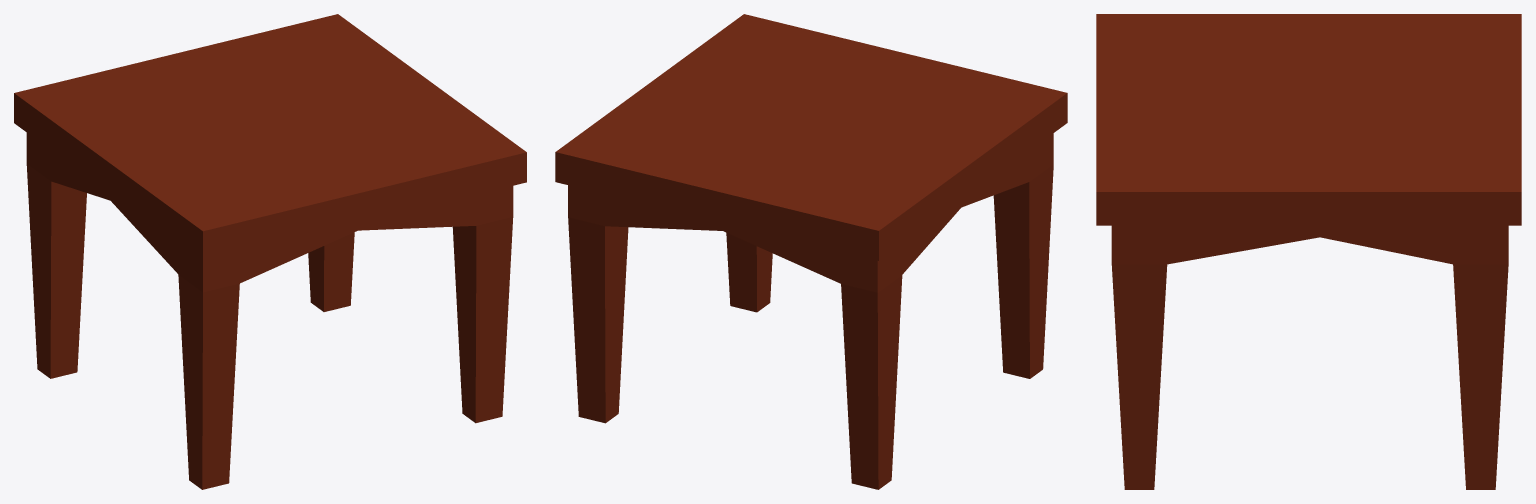
Rendered from env_Mesa.fbx.
3 views of the same model, side by side, from view 1: azimuth 30°, elevation 25°; view 2: azimuth 150°, elevation 25°; view 3: azimuth 270°, elevation 25° (orthographic). The views are drawn at different scales.
Parts seen in each view (by area): view 1: env_Mesa; view 2: env_Mesa; view 3: env_Mesa.
Part boxes in pixels (x1,y1,x2,y2): env_Mesa: (14, 14, 526, 489); env_Mesa: (555, 14, 1067, 489); env_Mesa: (1096, 14, 1521, 489).
Bounding box in the file's own units: 378 × 302 × 382.
